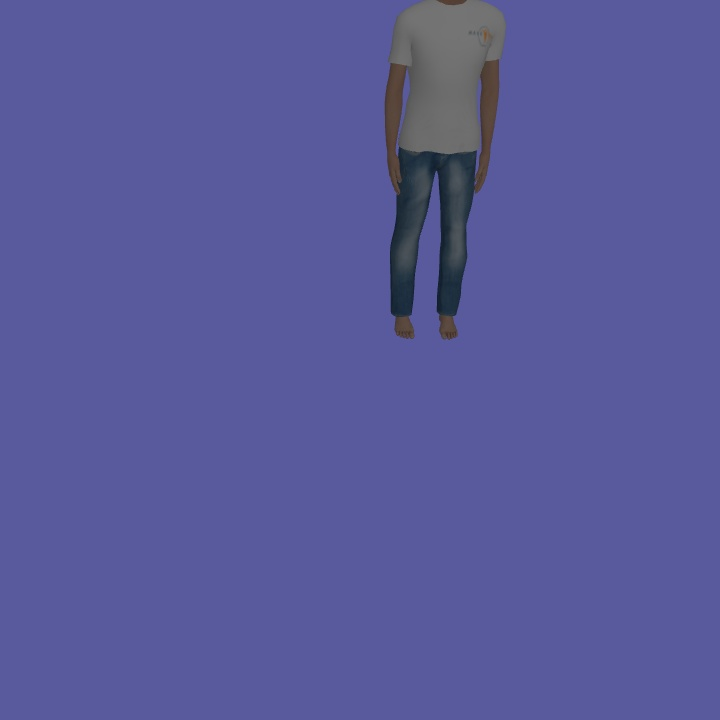victim: (383, 1, 507, 343)
